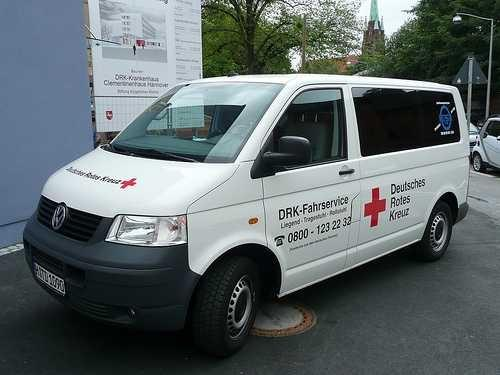car: (22, 72, 470, 357)
